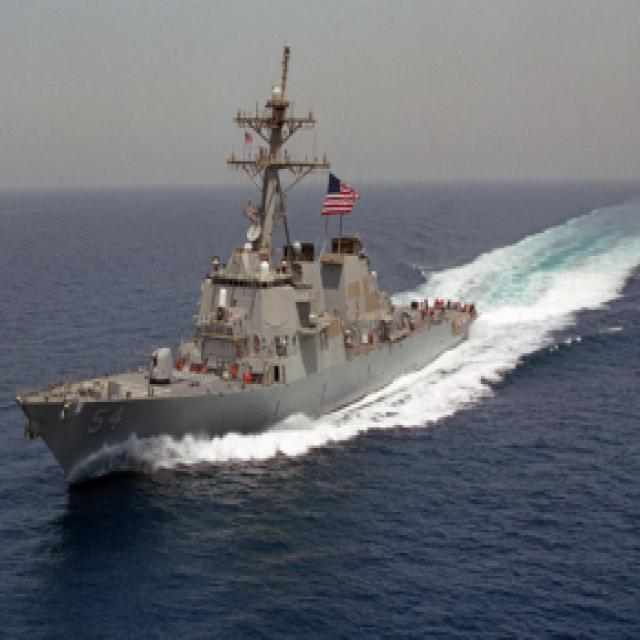navalvessels: (7, 53, 496, 472)
